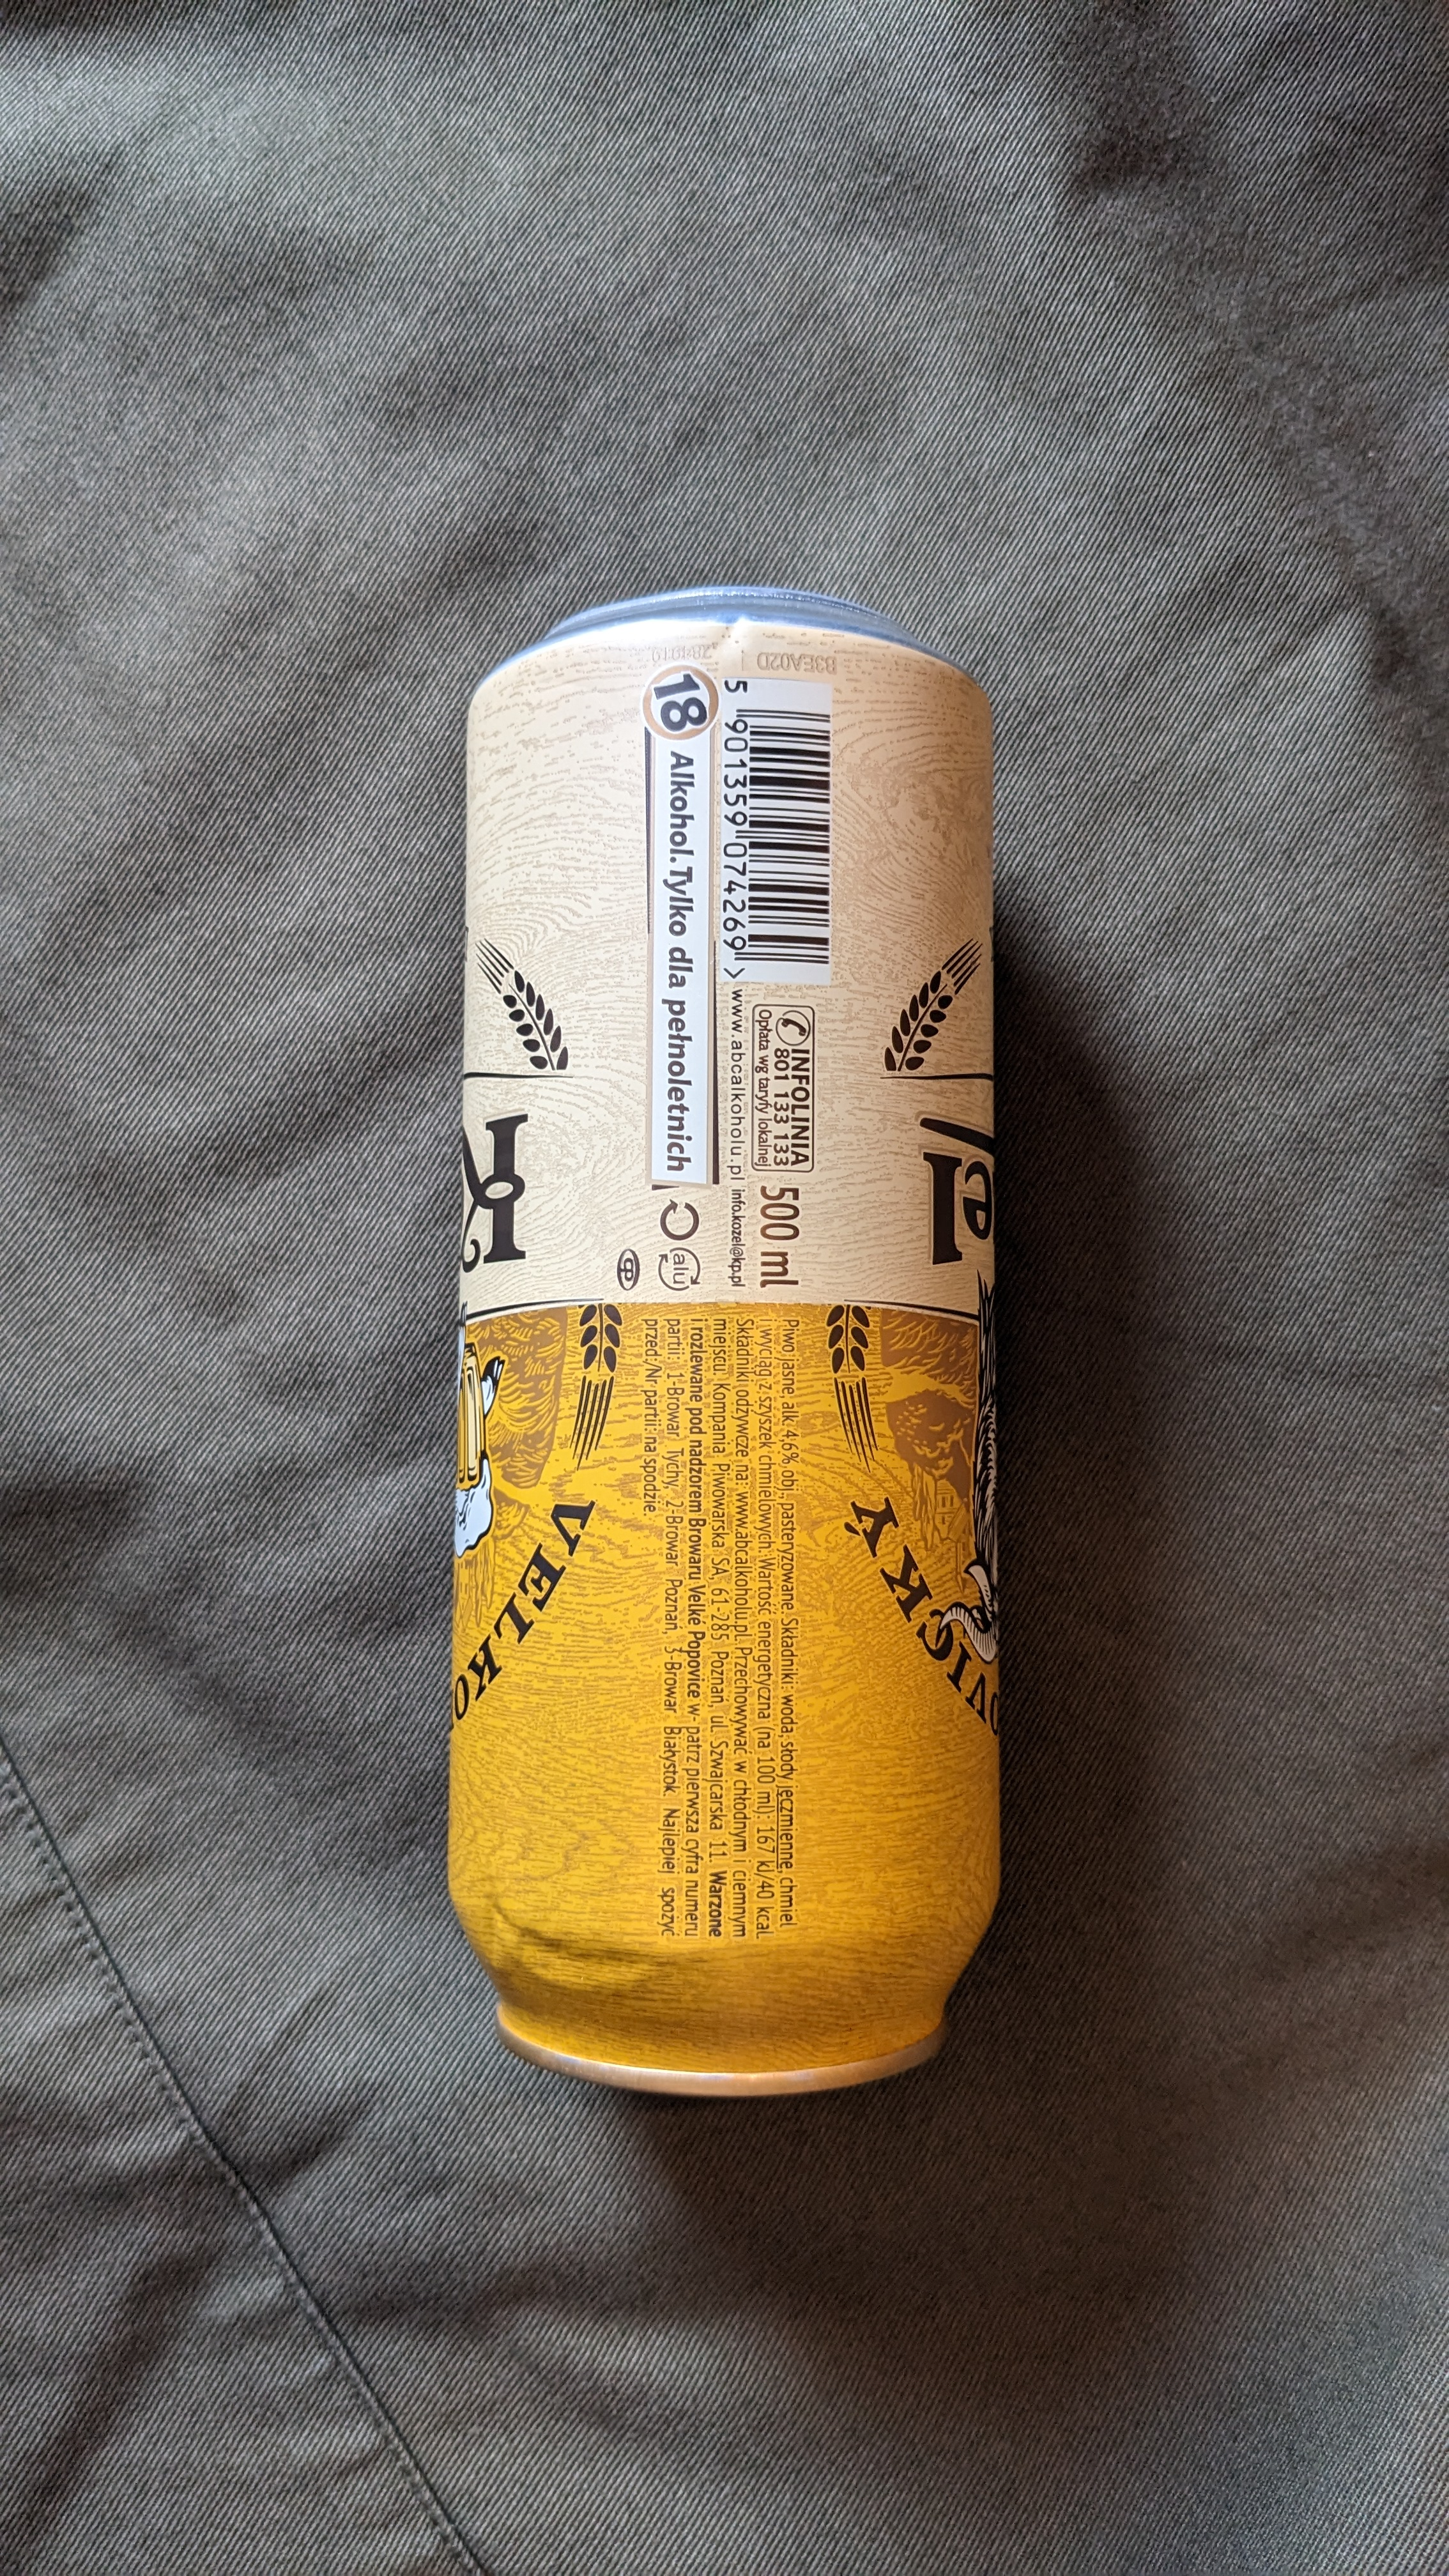kozel: (432, 566, 1039, 2116)
